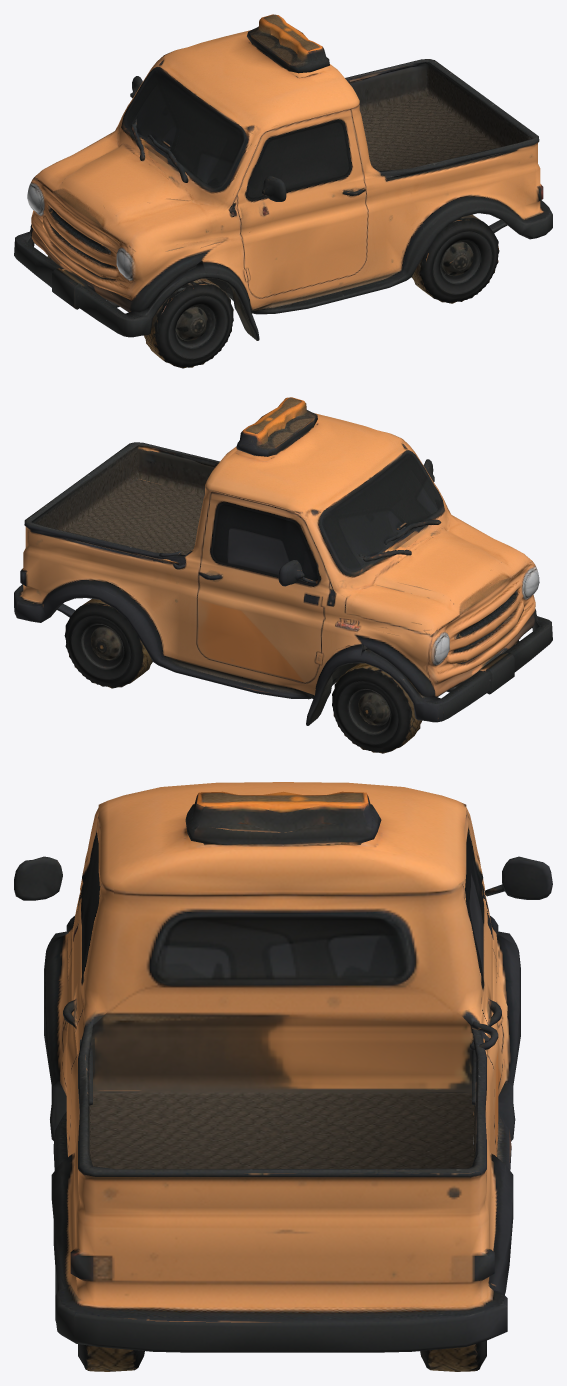
The model's file is Meshy_AI_Hãy_tạo_mô_hình__1023192316_texture.fbx.
3 views of the same model, one above another, from view 1: azimuth 30°, elevation 25°; view 2: azimuth 150°, elevation 25°; view 3: azimuth 270°, elevation 25° (orthographic). The views are drawn at different scales.
Visible parts, largest first — view 1: Mesh_0; view 2: Mesh_0; view 3: Mesh_0.
Boxes of the visible parts, bbox=[...] form: Mesh_0: bbox=[14, 14, 552, 368]; Mesh_0: bbox=[14, 397, 552, 753]; Mesh_0: bbox=[14, 782, 552, 1371].
Size of the model in its own units: 191 by 107 by 112.
Materials: 1 (1 with a texture image).
